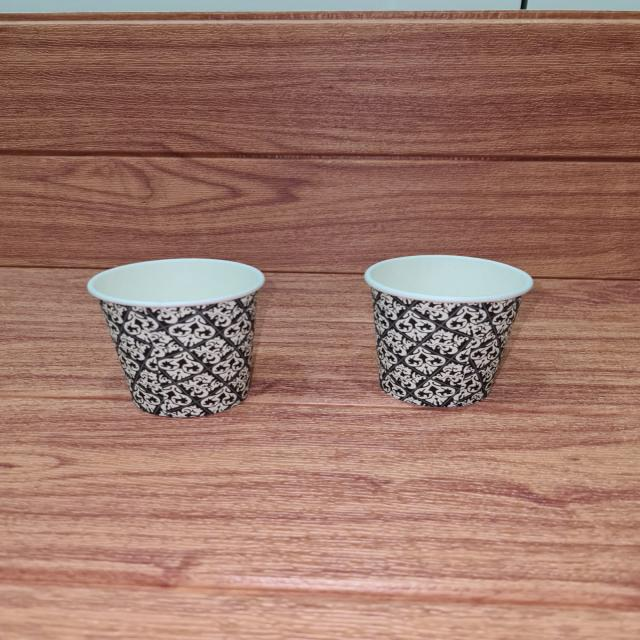cups: (83, 257, 281, 413), (351, 253, 539, 402)
